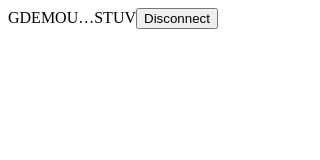
it: ClientConnect › shows a visible disconnect action for a restored wallet session
The image size is (320, 160).
expect the text "GDEMOU…STUV" is shown: met, box [8, 9, 136, 26]
Click the button with test id "disconnect-wallet-chrome".
click(177, 18)  # box [136, 8, 218, 29]
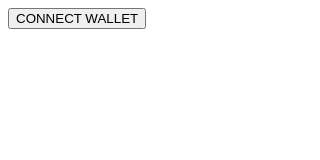
expect the button with test id "connect-wallet-chrome" is shown: met, box [8, 8, 146, 29]
